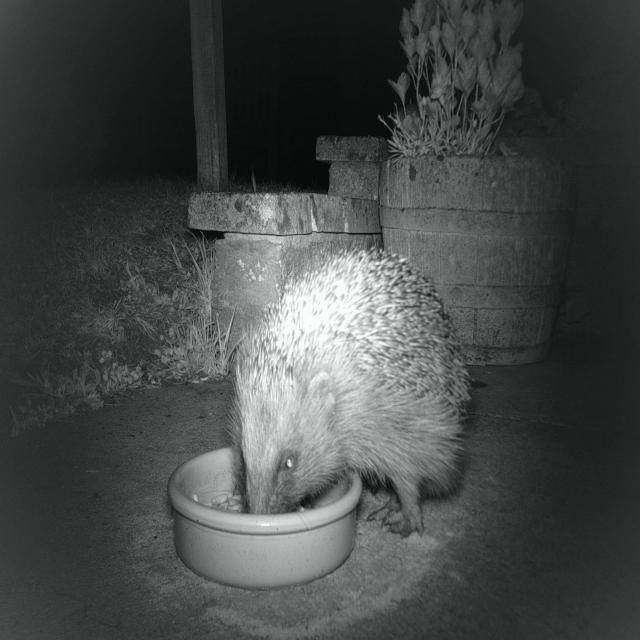Hedgehog: (231, 238, 479, 536)
